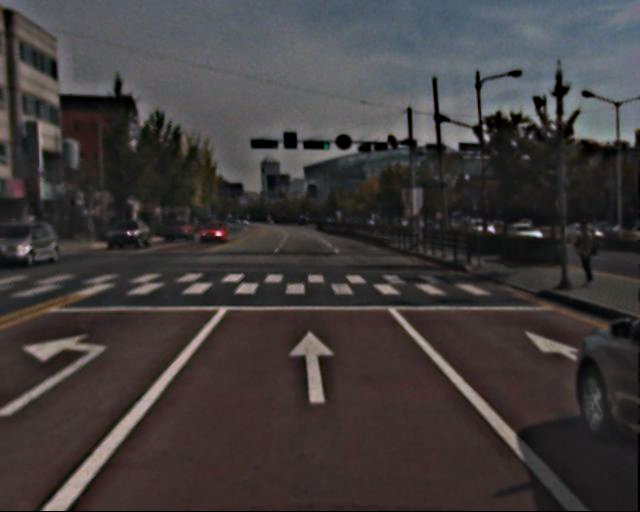person: (567, 220, 599, 292)
